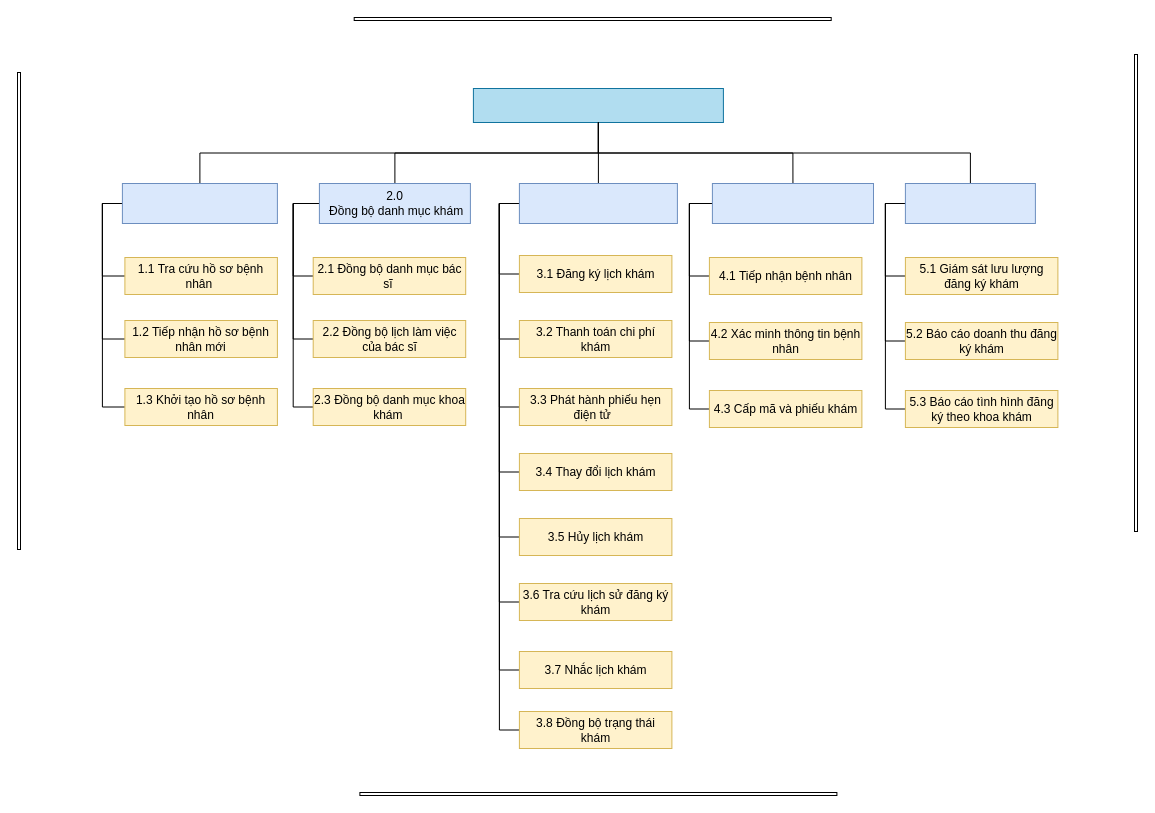
Image size: 1155x813. Some labels were removed from this diagram. Each missing label, with the centre of its shape:
0 Hệ thống quản lí đăng ký khám chữa bệnh: the point at 597,105
1.0 Quản lý hồ sơ bệnh nhân: the point at 199,203
3.0 Quản lý đăng ký lịch khám: the point at 597,203
4.0 Quản lý tiếp nhận bệnh nhân: the point at 792,203
5.0 Giám sát và Báo cáo: the point at 969,203
